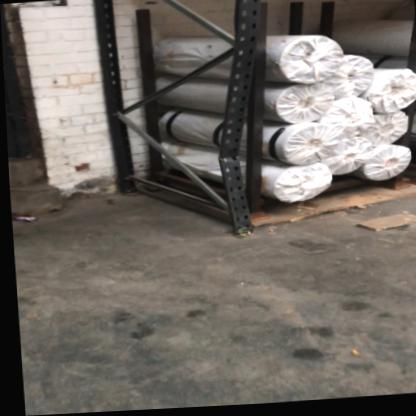vertical_damage: (198, 81, 261, 202)
